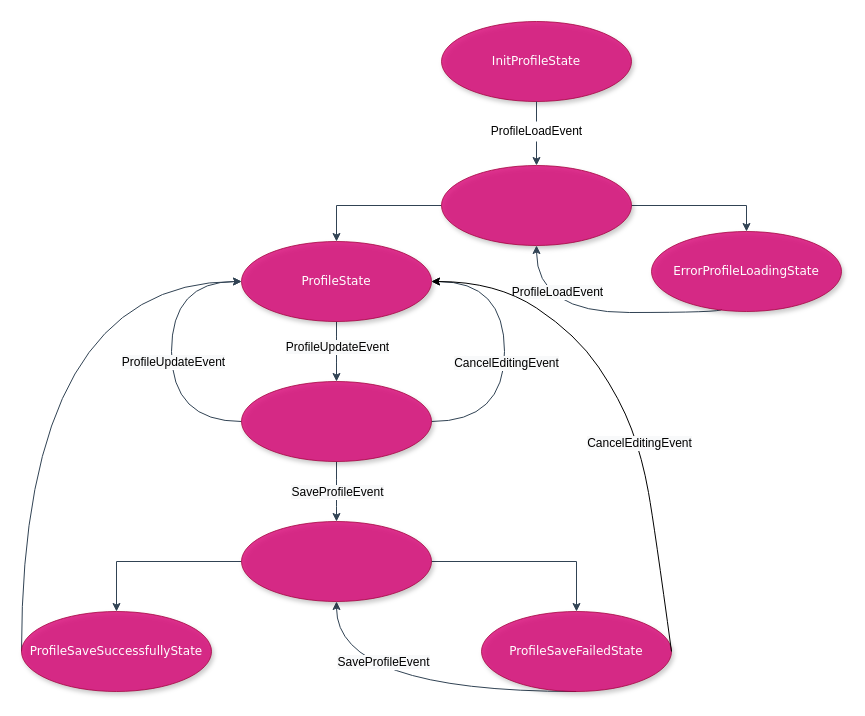
This 865x716 diagram has some shape labels left out. Here are the shapes that lost their labels. From the top down, the centre of each, then its label:
point 537,206: ProfileLoadingState
point 337,422: PendingProfileState
point 337,562: SavingProfileState
